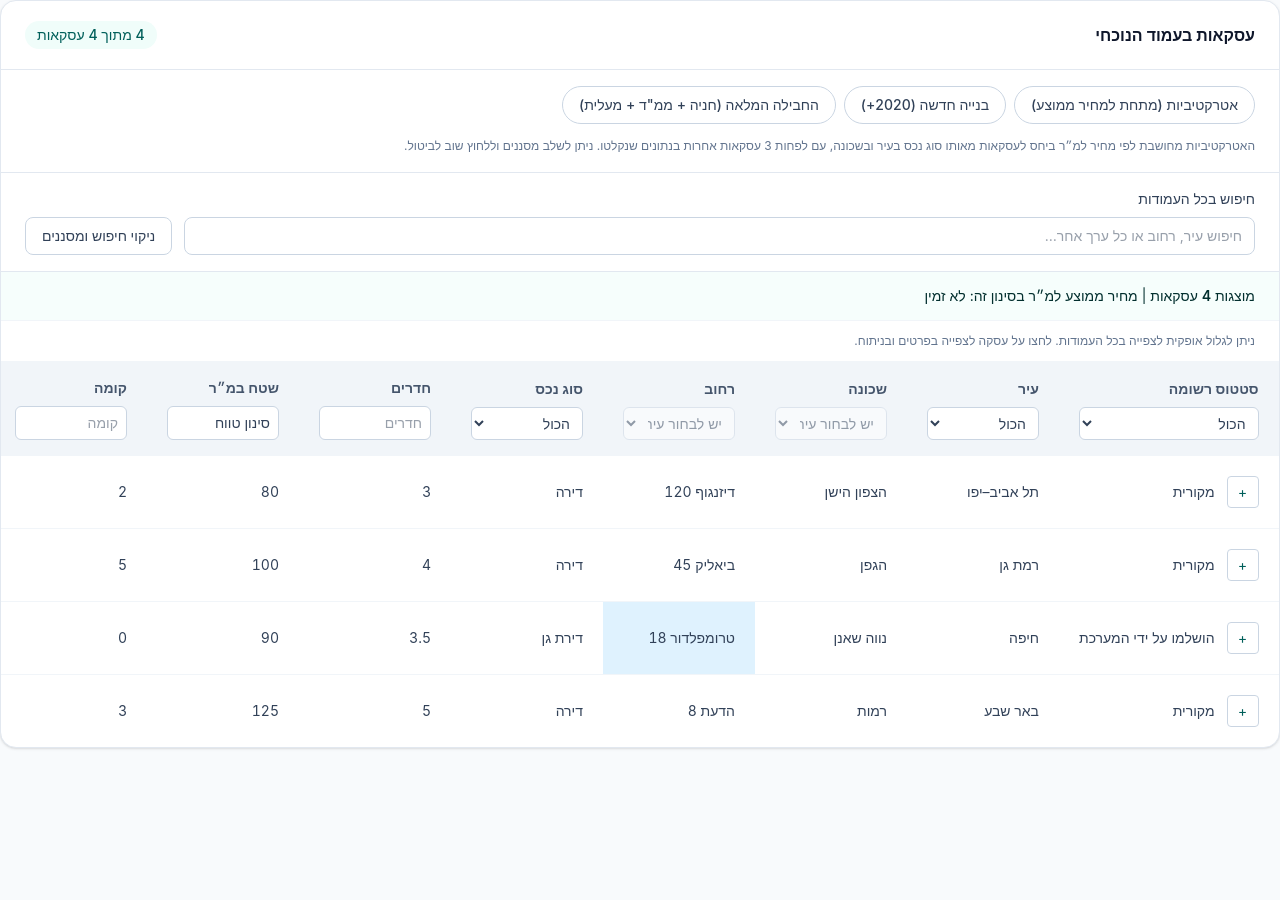
Test: shows the exact loading text and reduced-motion spinner, cancels on switching, and ignores late responses
Click the button named "פתיחת פרטי העסקה row-2".
click(1243, 492)  # box [1227,476,1259,508]
(page scrolled)
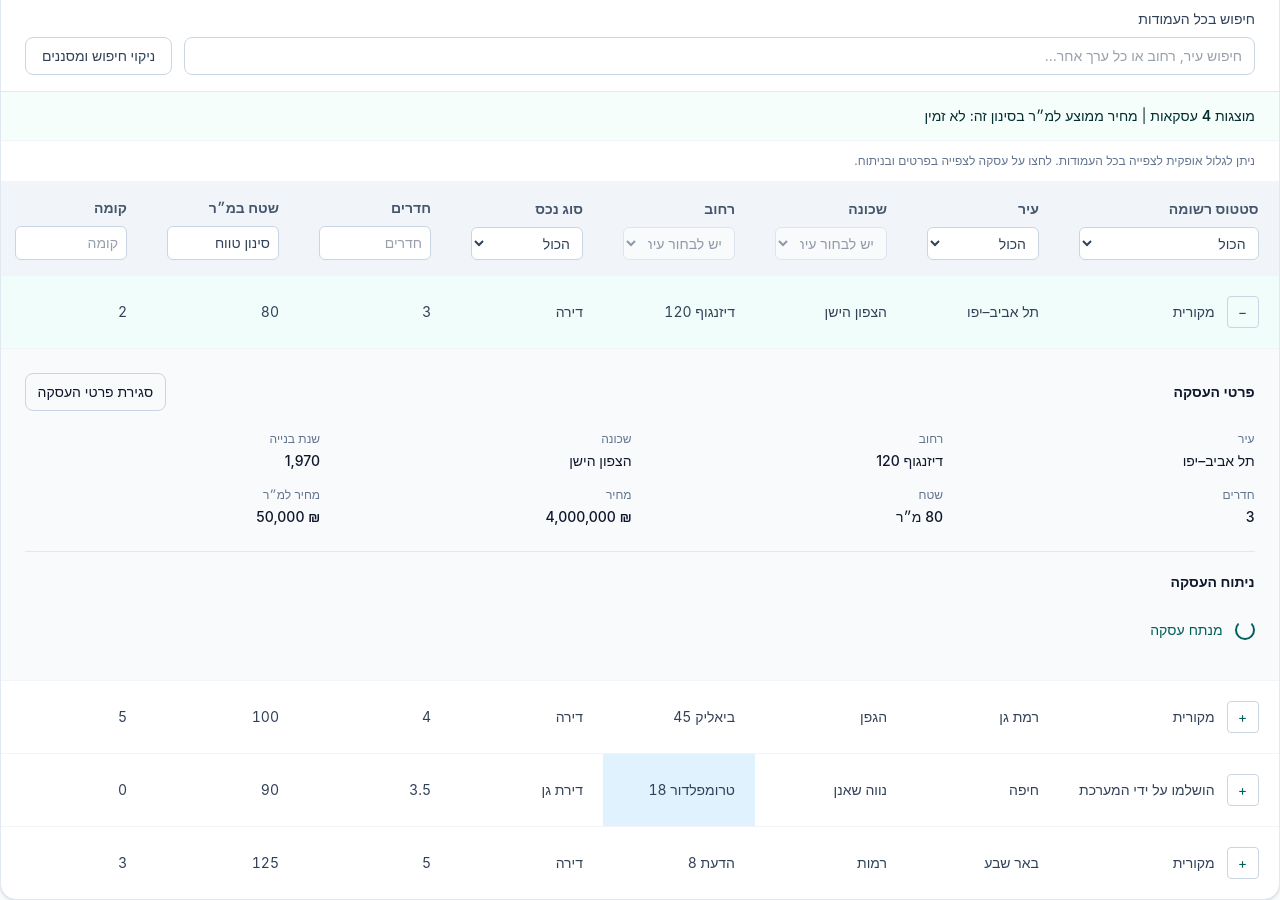
Now the message "מנתח עסקה" is shown, box [1151,620,1255,640]
Click the button "+" in the row of "רמת גן".
click(1243, 717)  # box [1227,701,1259,733]
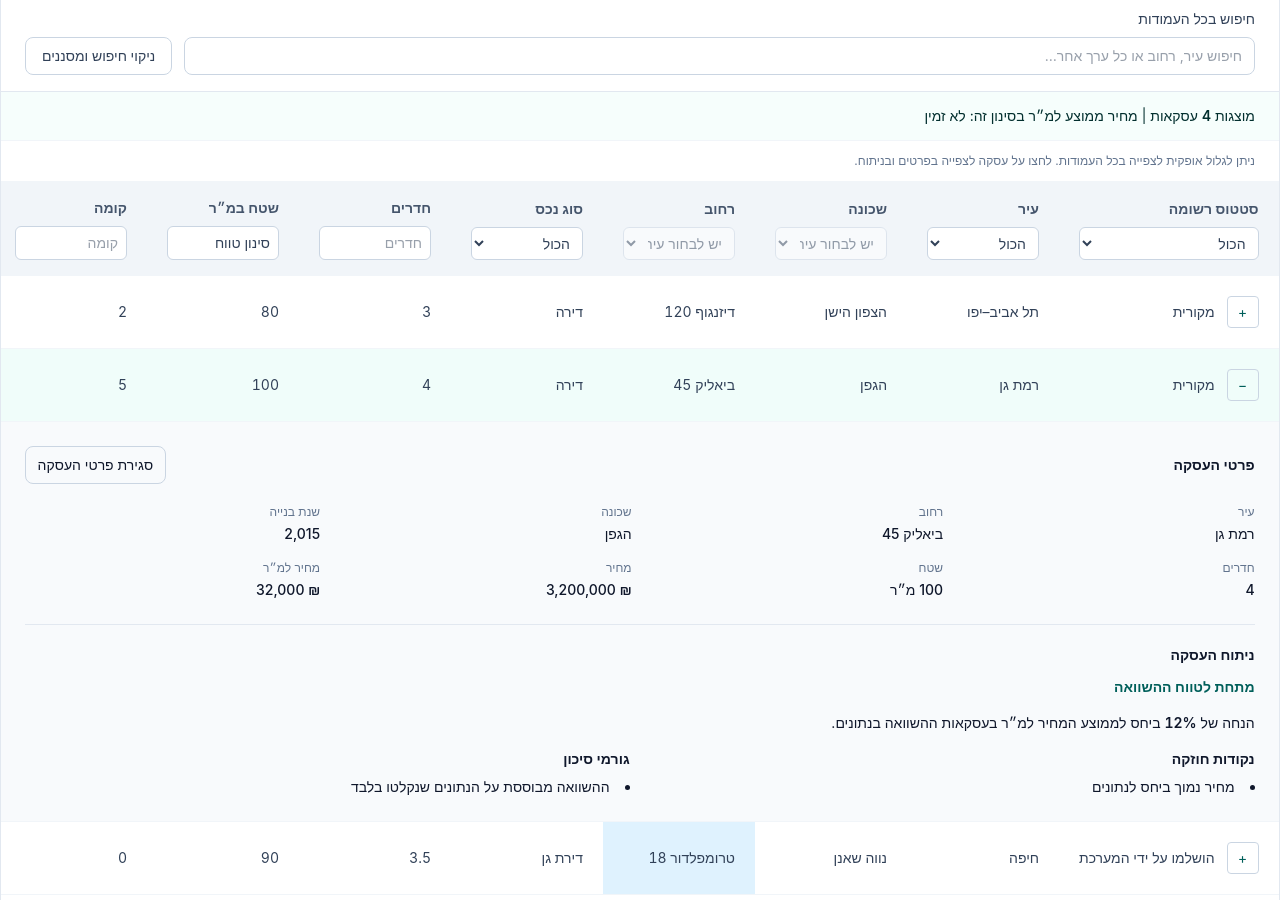
Now the text "מתחת לטווח ההשוואה" is shown, box [1114,678,1255,695]
